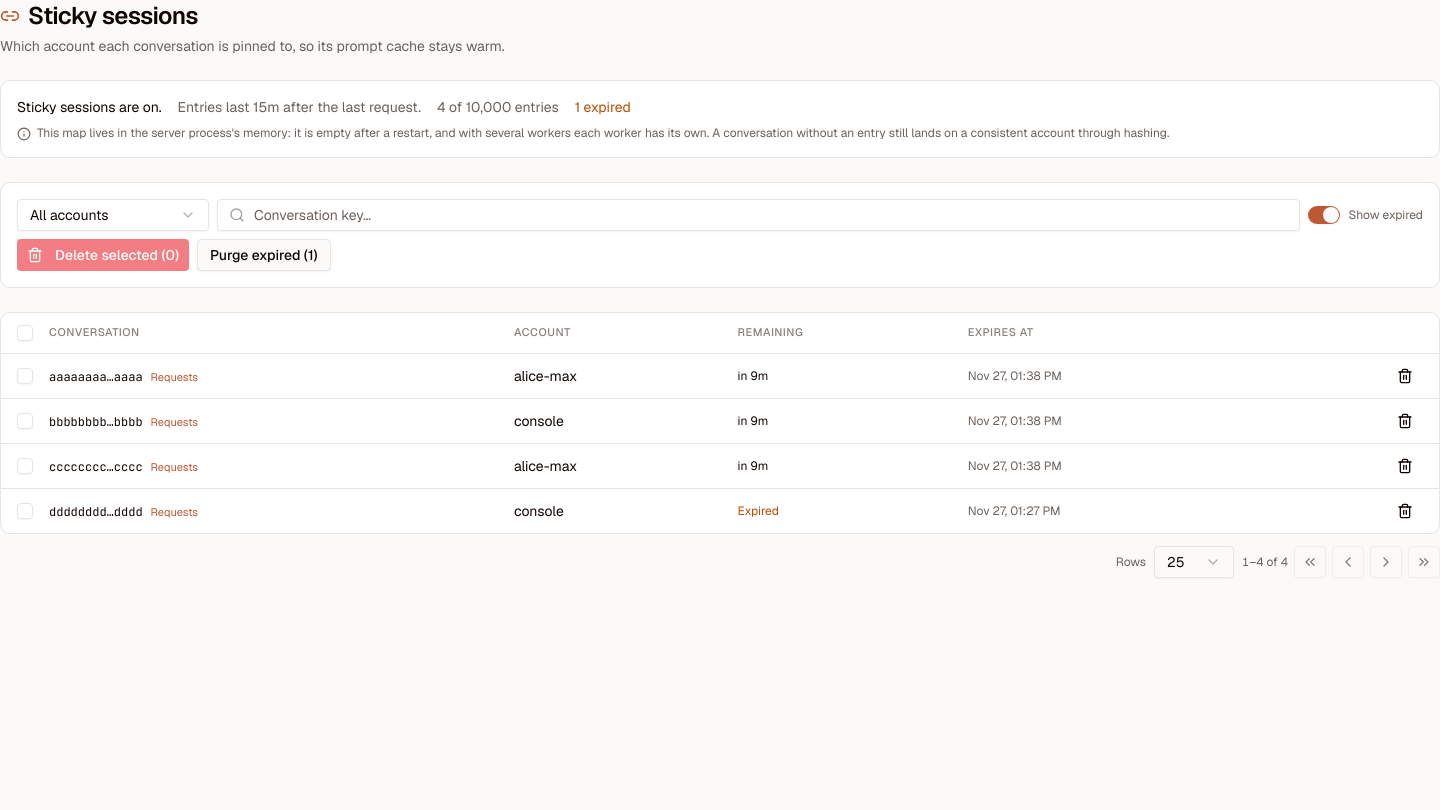
Test: StickySessionsPage › filters by account and deletes all of that account's entries
The width and height of the screenshot is (1440, 810).
Expected: the table with test id "sticky-table" is shown, [1, 313, 1439, 532]
Click the dropdown named "Filter by account": (113,215) [17, 199, 209, 231]
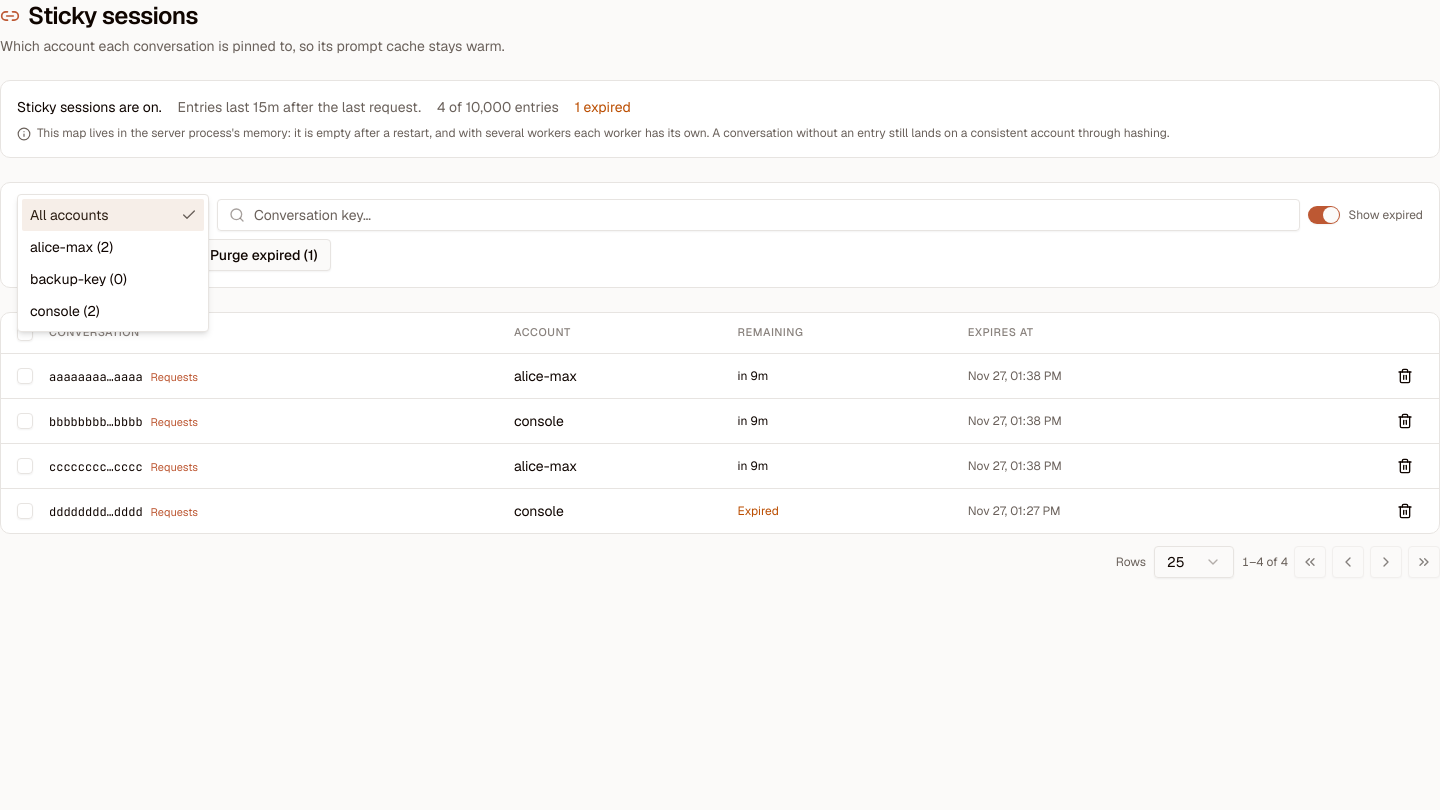
Click the option "console (2)": (65,311) [30, 302, 100, 320]
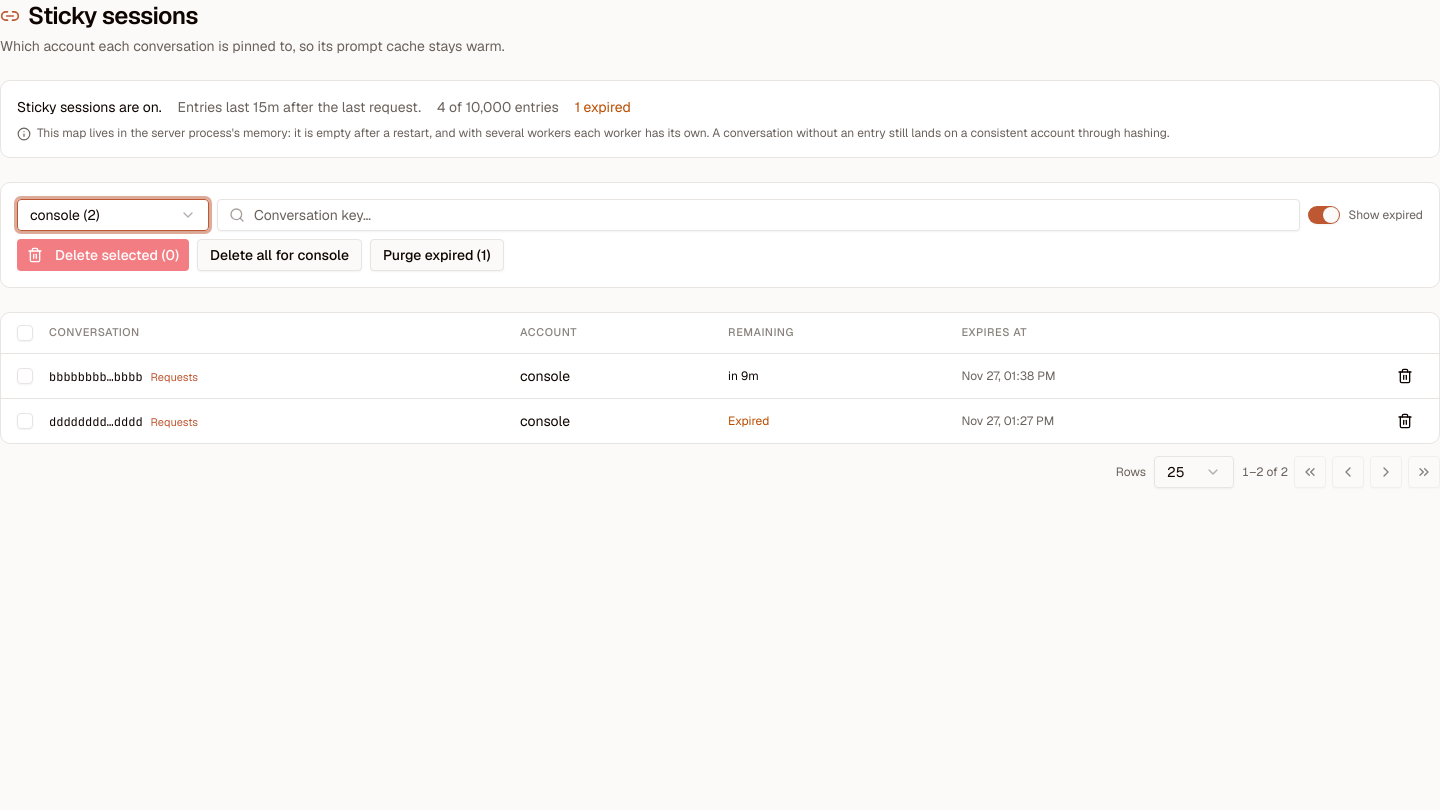
Expected: the row with test id "sticky-row-aaaaaaaa…aaaa" is gone
Click the button "Delete all for console": (280,255) [197, 239, 362, 271]
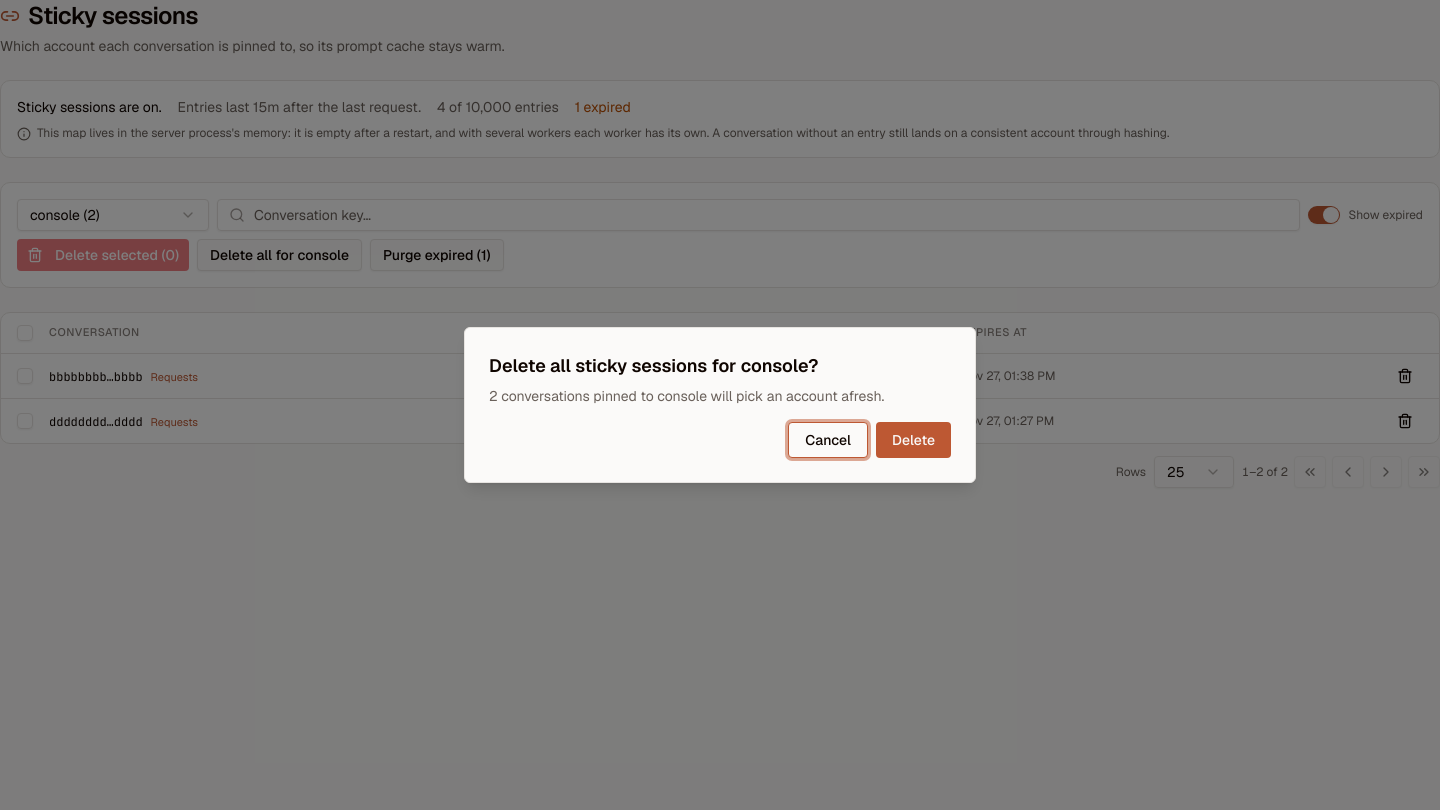
Expected: the text "2 conversations pinned to console will pick an account afresh." is shown, [489, 386, 884, 406]
Click the button "Delete": (913,440) [876, 422, 951, 458]
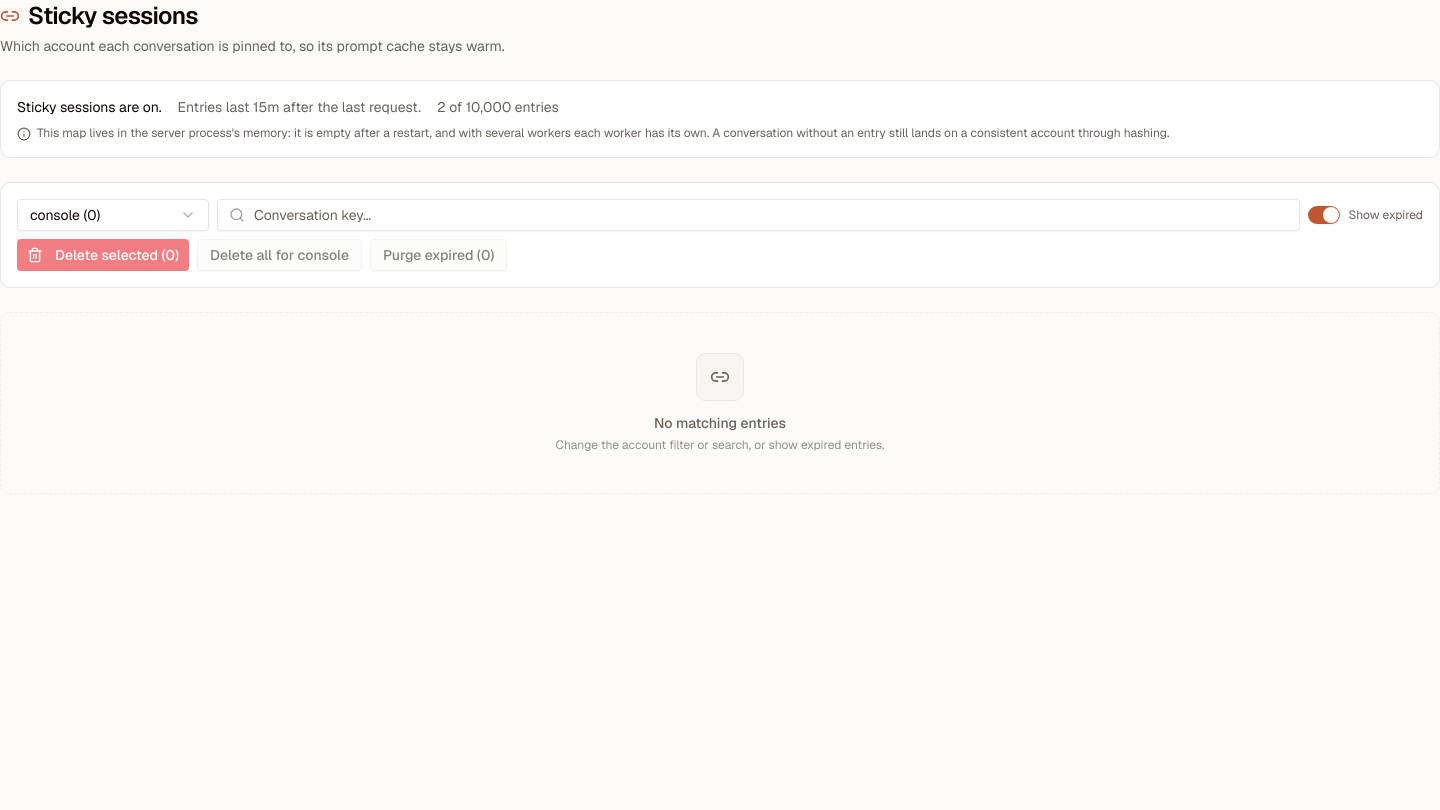
Expected: the dialog is gone
